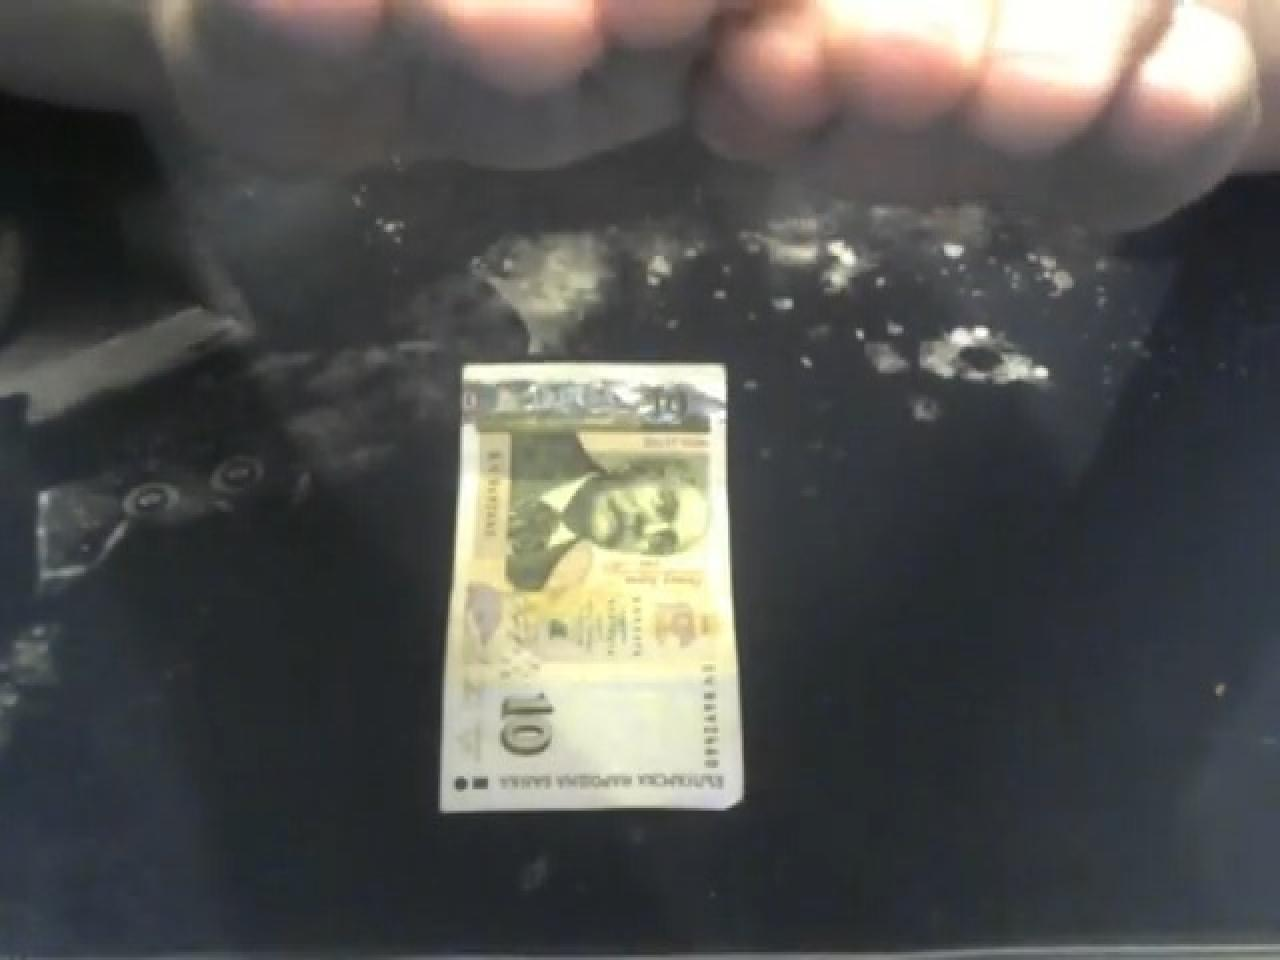10leva: (432, 363, 748, 821)
